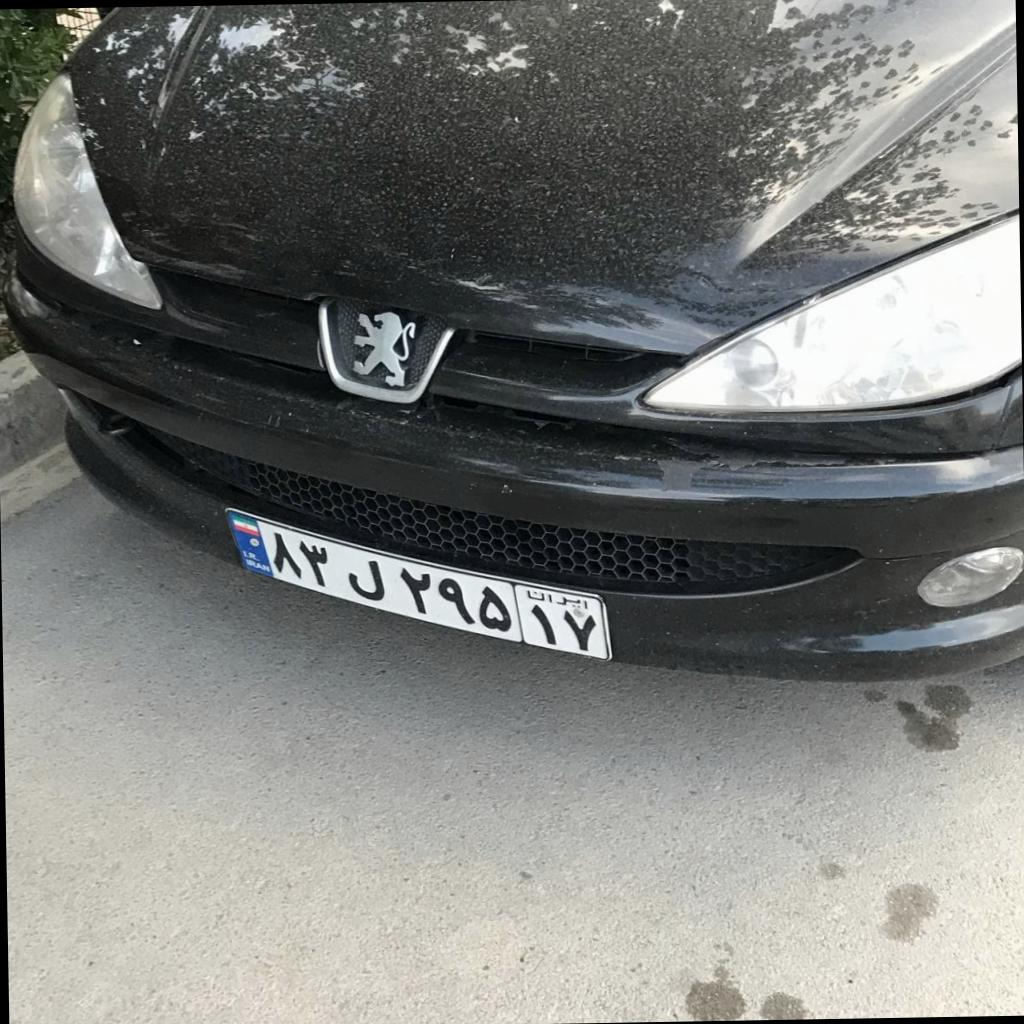Plates: (223, 508, 609, 660)
